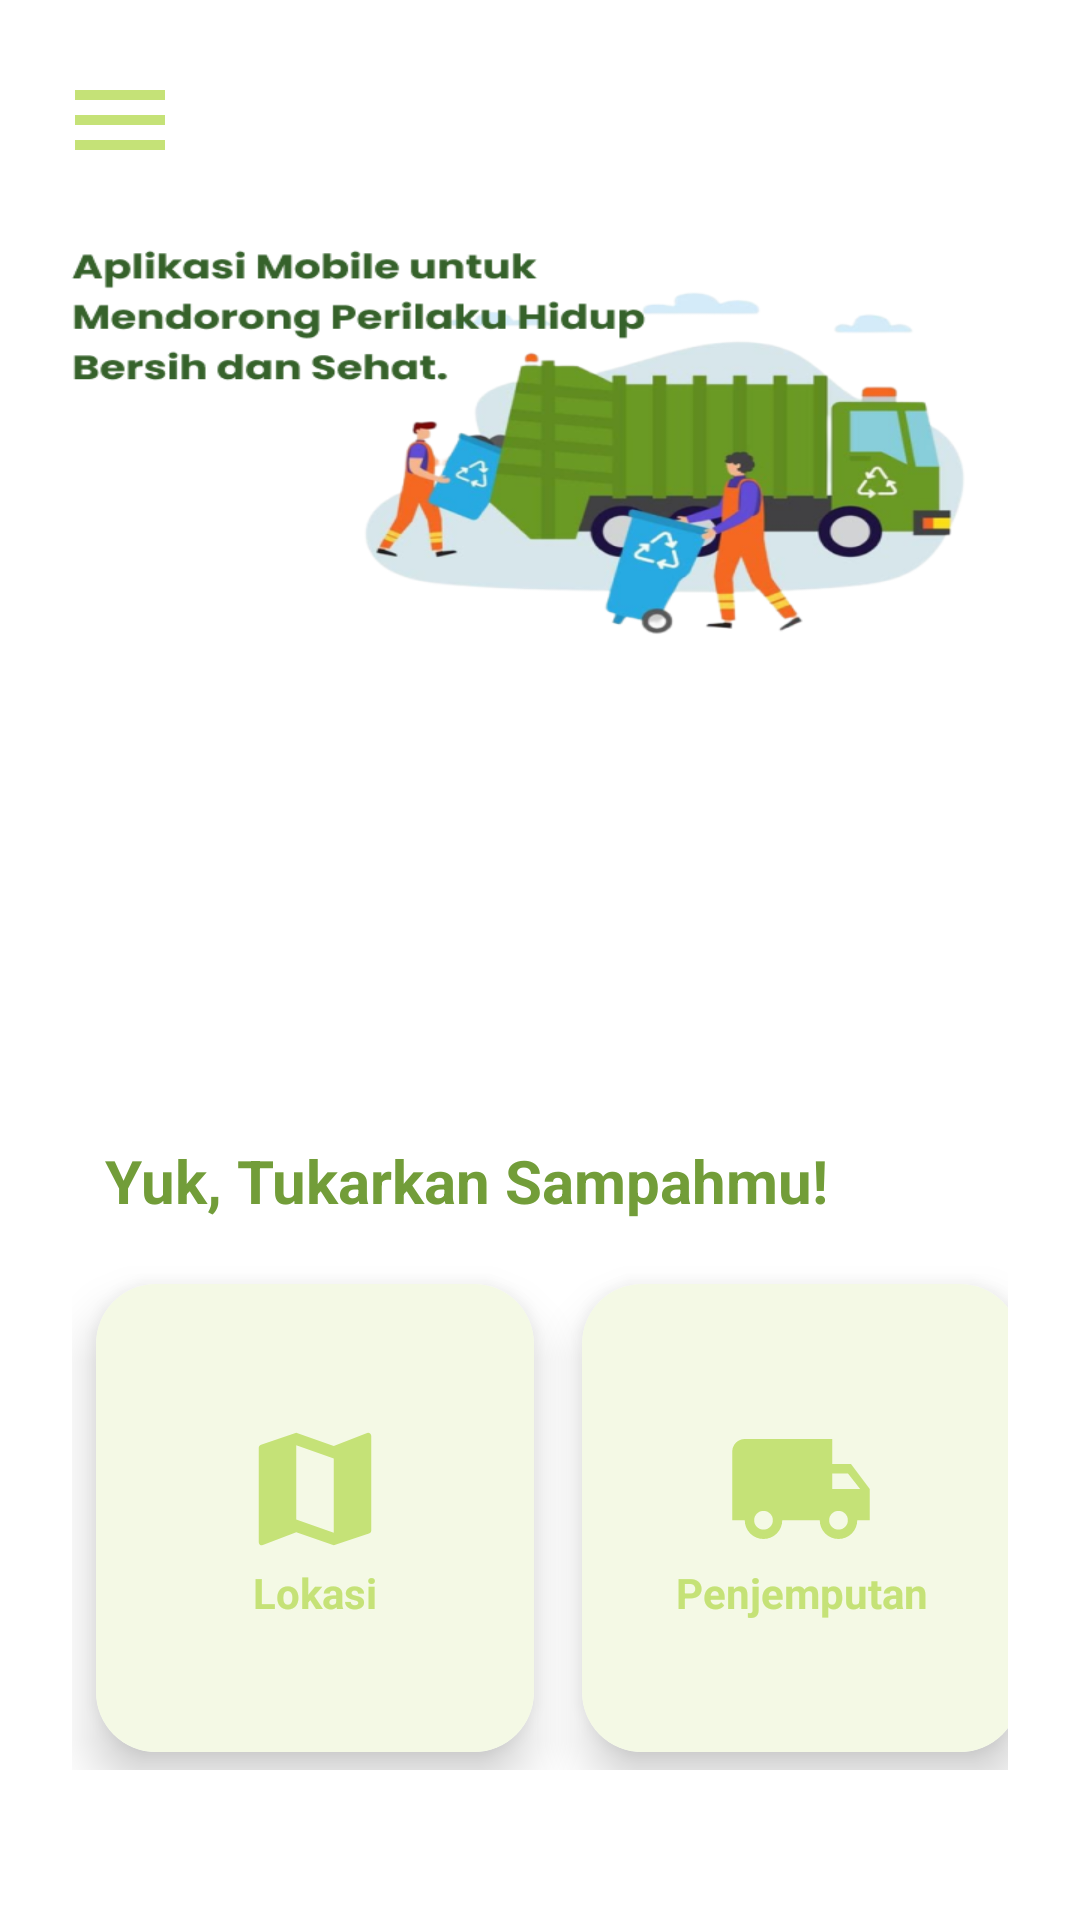

Icons on this 1080 x 1920 Android screen, each with its box as (x1, y1, x2, y2):
local shipping: (732, 1439, 870, 1539)
map: (258, 1433, 372, 1546)
menu: (75, 90, 165, 150)
